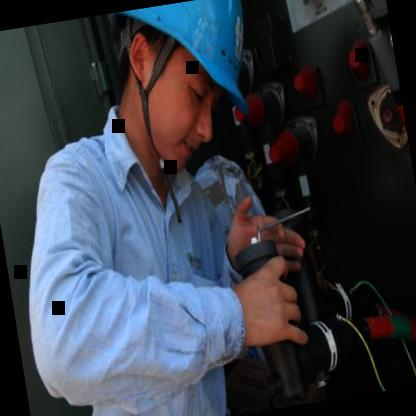helmet: (95, 0, 274, 188)
